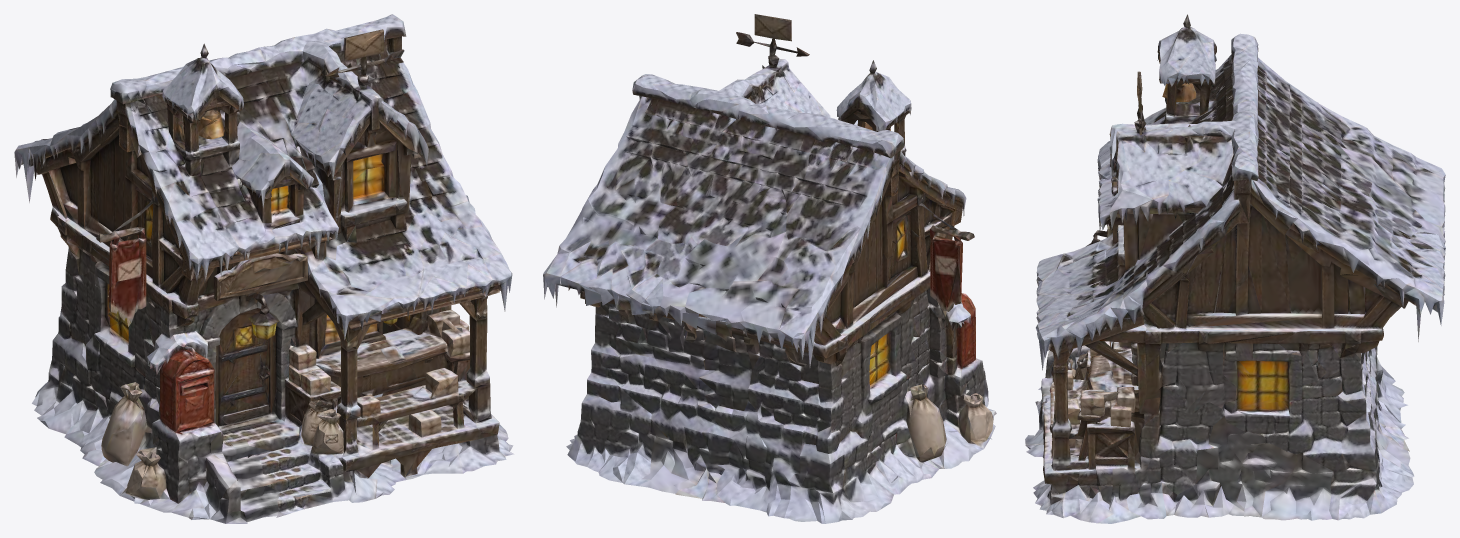
Rendered from post.glb.
3 views of the same model, side by side, from view 1: azimuth 30°, elevation 25°; view 2: azimuth 150°, elevation 25°; view 3: azimuth 270°, elevation 25° (orthographic). The views are drawn at different scales.
Visible parts, largest first — view 1: Mesh_0; view 2: Mesh_0; view 3: Mesh_0.
Boxes of the visible parts, x1,y1,x2,y2 form: Mesh_0: (14, 14, 514, 523); Mesh_0: (543, 14, 996, 523); Mesh_0: (1025, 14, 1445, 523).
Bounding box in the file's own units: 1.74 × 1.9 × 1.85.
1 material, 1 textured.
